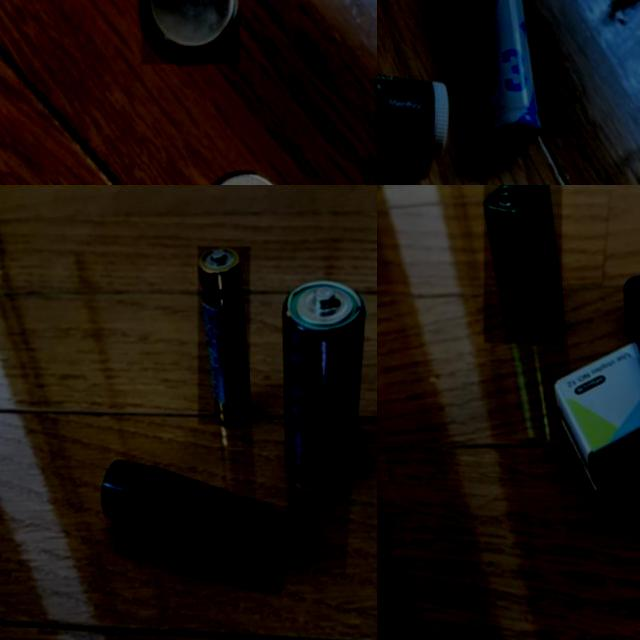9V: (483, 185, 562, 343)
